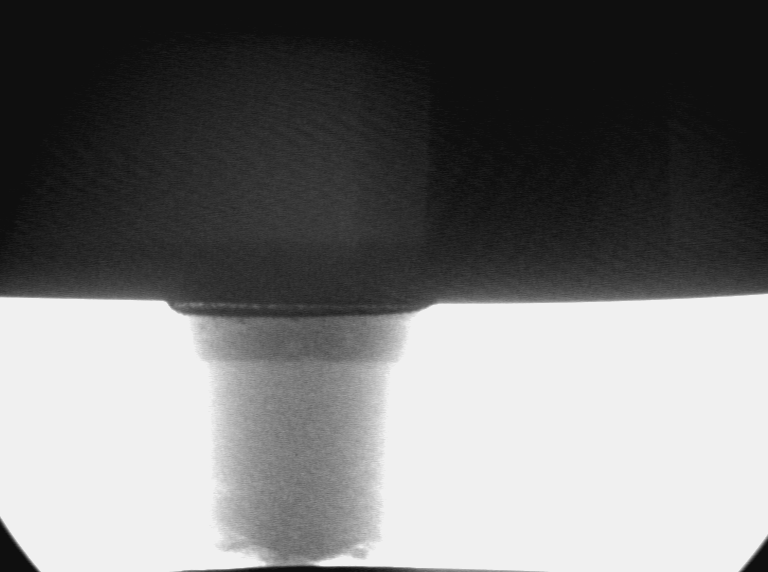defect: (278, 335, 309, 357)
